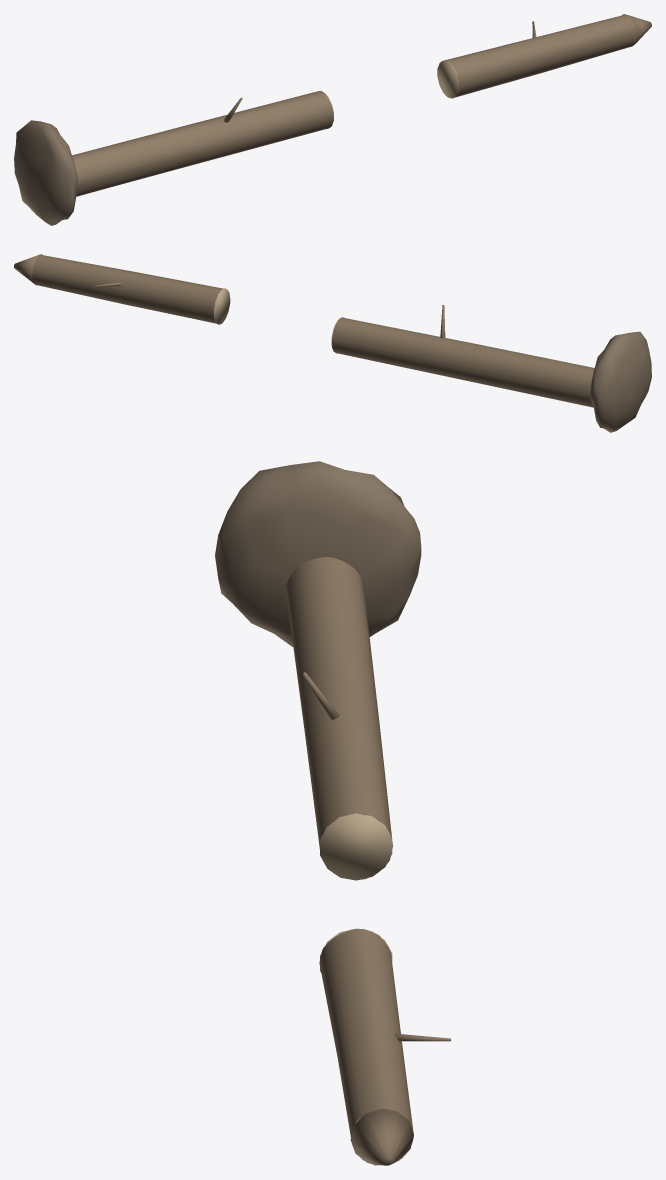
File: cut_log.glb
3 renders of one model, top to bottom at view 1: azimuth 30°, elevation 25°; view 2: azimuth 150°, elevation 25°; view 3: azimuth 270°, elevation 25°, orthographic. The views are drawn at different scales.
Parts seen in each view (by area): view 1: g_bark, g_rock, g_endgrain; view 2: g_bark, g_rock, g_endgrain; view 3: g_bark, g_rock, g_endgrain.
Boxes of the visible parts, x1=… form: g_bark: x1=72, y1=14, x2=651, y2=196; g_rock: x1=14, y1=120, x2=78, y2=225; g_endgrain: x1=323, y1=60, x2=458, y2=128; g_bark: x1=14, y1=254, x2=594, y2=407; g_rock: x1=590, y1=331, x2=651, y2=432; g_endgrain: x1=213, y1=288, x2=344, y2=353; g_bark: x1=286, y1=557, x2=450, y2=1165; g_rock: x1=215, y1=461, x2=421, y2=646; g_endgrain: x1=320, y1=813, x2=392, y2=972.
Bounding box in the file's own units: 13.36 × 1.98 × 2.26.
